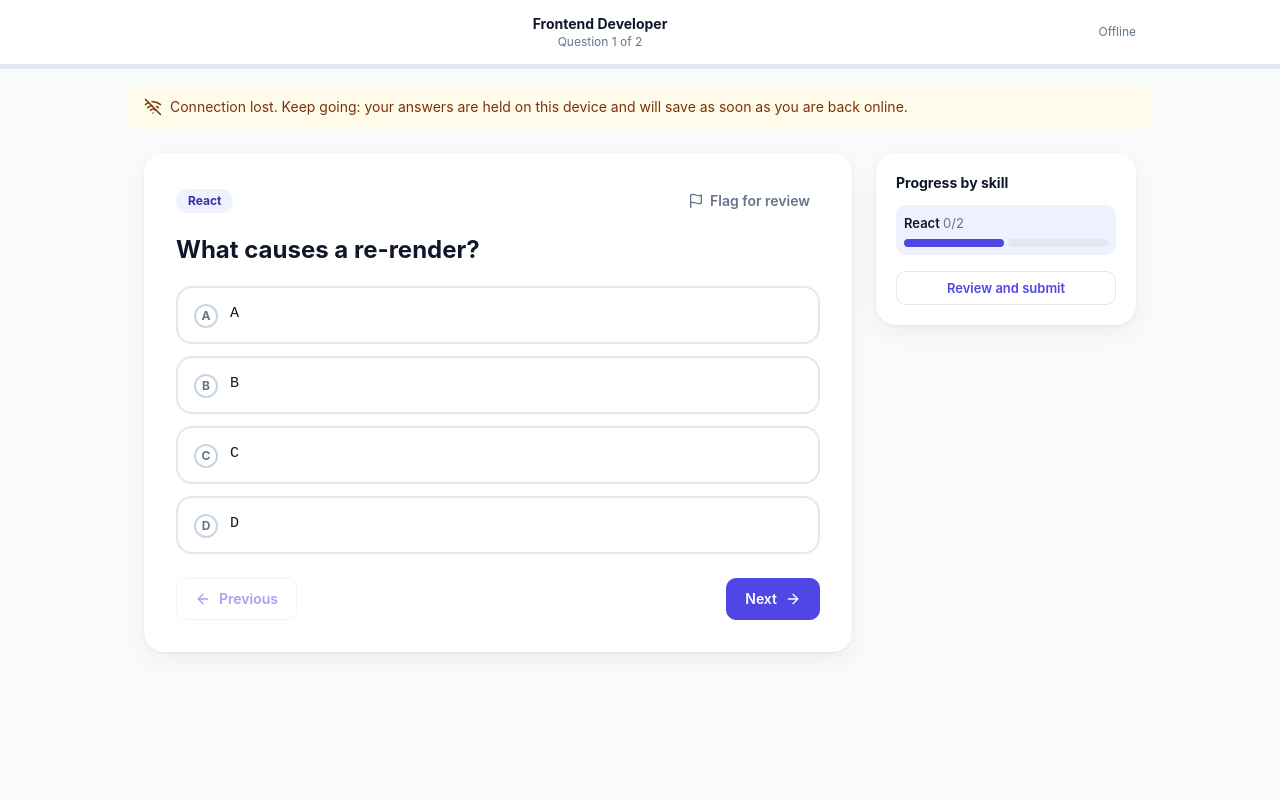
it: TestRunner › keeps answers queued while offline and flushes them when the connection returns
Expected: the text "Connection lost" is shown, [170,98,908,115]
Click the radio button labelled "C C".
click(206, 456)  # box [176,426,820,484]
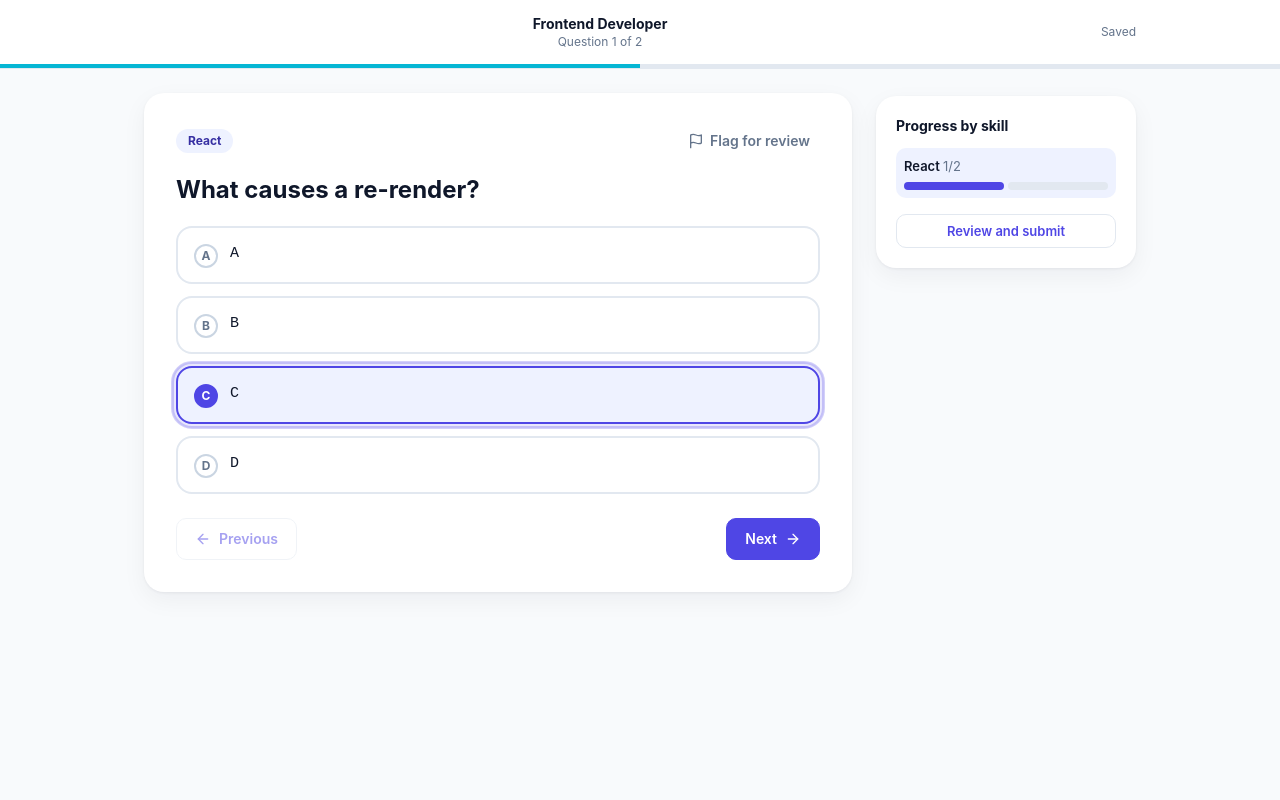
Result: the text "Connection lost" is gone
